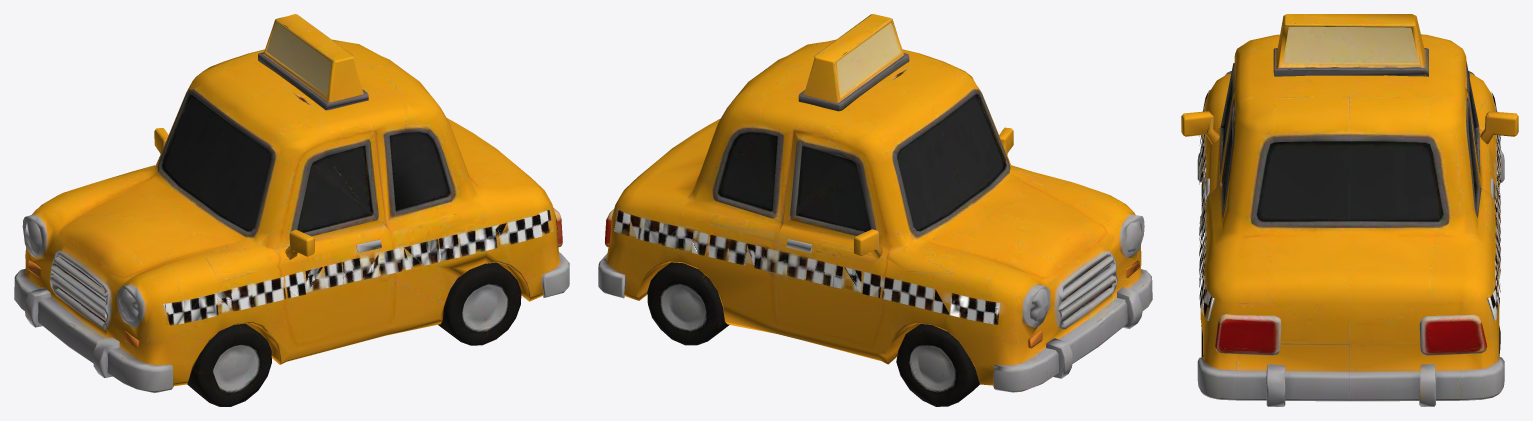
File: taxi.glb
3 views of the same model, side by side, from view 1: azimuth 30°, elevation 25°; view 2: azimuth 150°, elevation 25°; view 3: azimuth 270°, elevation 25° (orthographic). The views are drawn at different scales.
Visible parts, largest first — view 1: geometry_0; view 2: geometry_0; view 3: geometry_0.
Boxes of the visible parts, x1=… form: geometry_0: x1=14, y1=14, x2=569, y2=406; geometry_0: x1=598, y1=14, x2=1152, y2=406; geometry_0: x1=1181, y1=14, x2=1518, y2=406.
Size of the model in its own units: 0.9546 by 0.5679 by 0.5503.
1 material, 1 textured.
